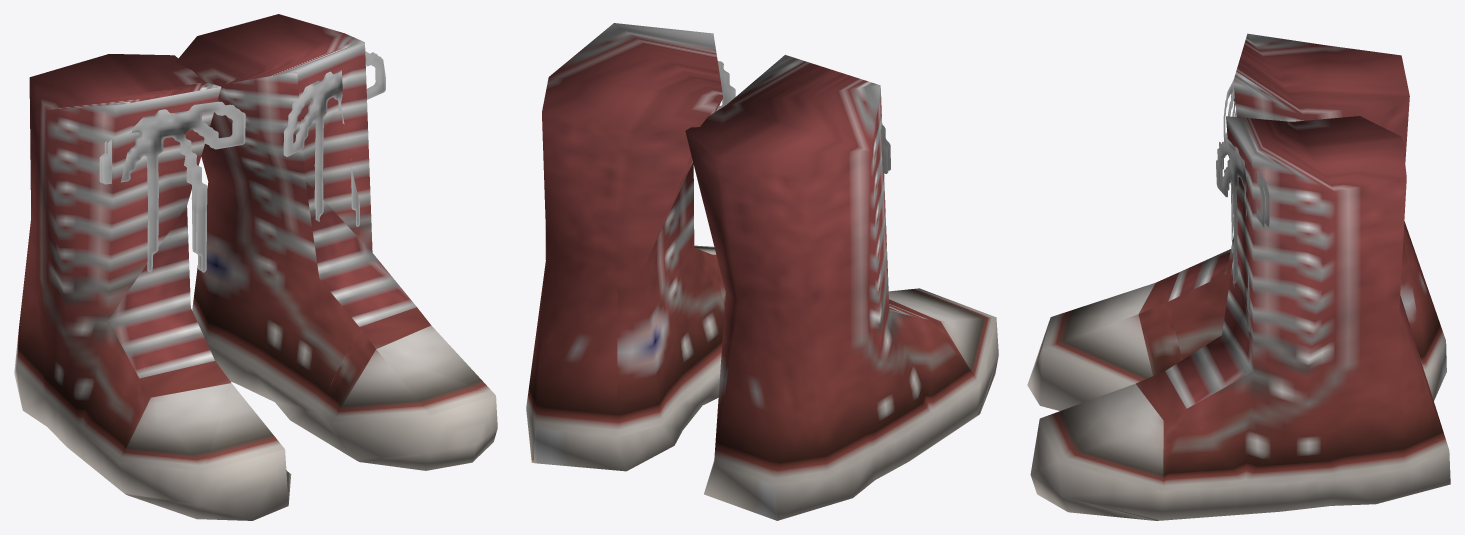
The model's file is Hitops_Ground.fbx.
3 renders of one model, left to right at view 1: azimuth 30°, elevation 25°; view 2: azimuth 150°, elevation 25°; view 3: azimuth 270°, elevation 25°, orthographic. The views are drawn at different scales.
Visible parts, largest first — view 1: Body; view 2: Body; view 3: Body.
Part boxes in pixels (x1,y1,x2,y2): Body: (14,14,497,520); Body: (526,23,998,520); Body: (1027,33,1450,520).
Bounding box in the file's own units: 0.1467 × 0.1358 × 0.1493.
